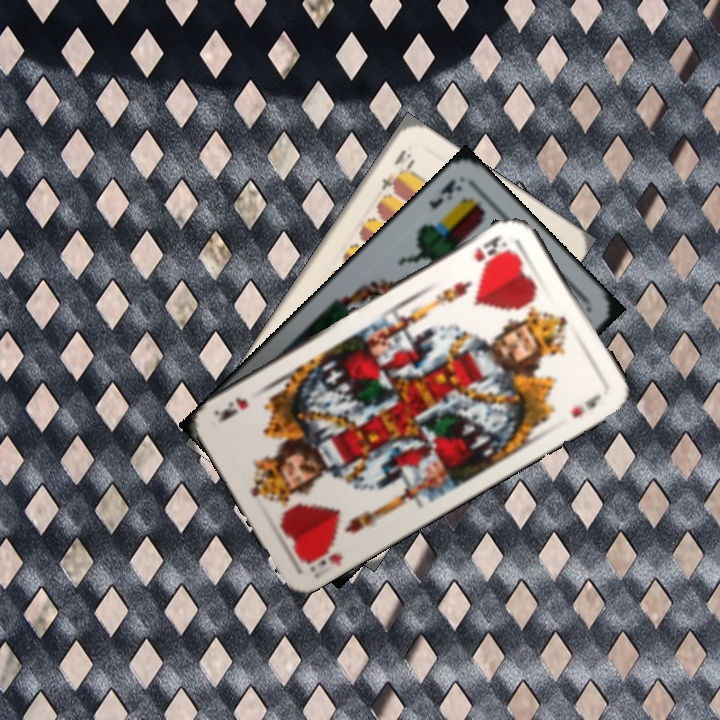E10: (377, 145, 415, 193)
EK: (424, 175, 465, 213)
HK: (470, 231, 512, 266), (306, 549, 345, 575)
